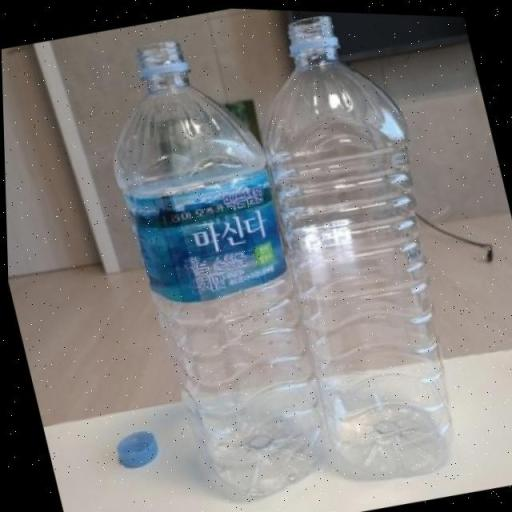plastic: (84, 22, 342, 512), (234, 6, 482, 492)
